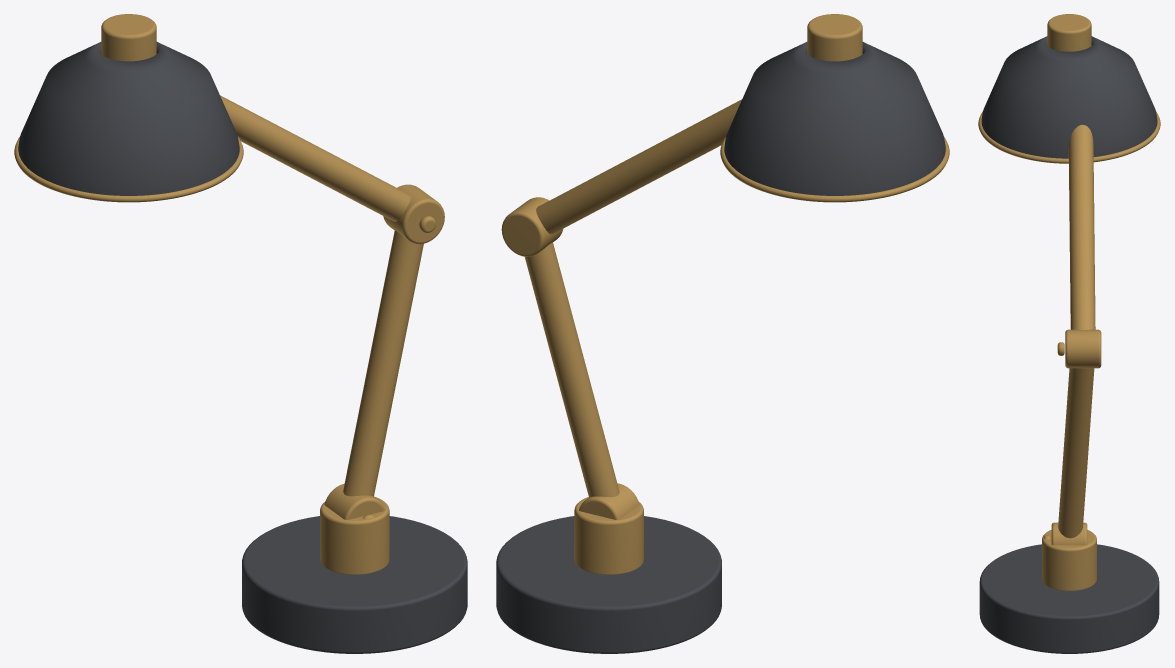
The model's file is estacoes_luminaria.glb.
The picture shows the model from 3 angles, left to right: view 1: azimuth 30°, elevation 25°; view 2: azimuth 150°, elevation 25°; view 3: azimuth 270°, elevation 25°; orthographic projection. The views are drawn at different scales.
Visible parts, largest first — view 1: luminaria; view 2: luminaria; view 3: luminaria.
Boxes of the visible parts, box(x1,y1,x2,y2) form: luminaria: box(14, 14, 467, 653); luminaria: box(496, 14, 949, 653); luminaria: box(978, 14, 1160, 653).
Bounding box in the file's own units: 0.281 × 0.405 × 0.132.
